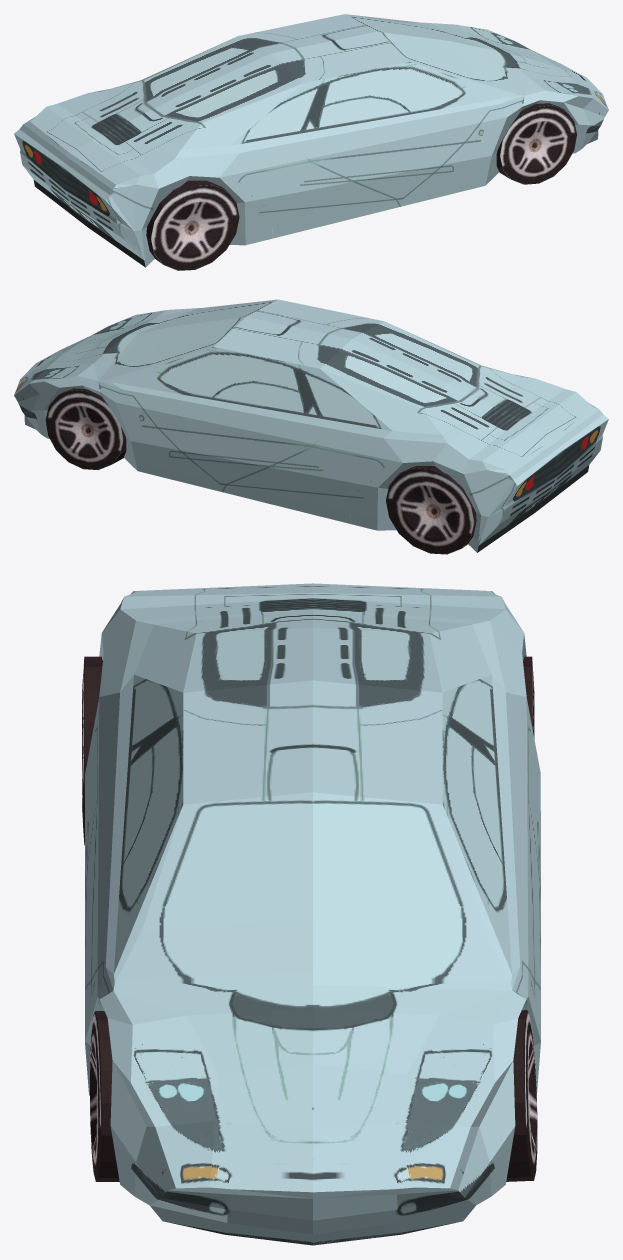
File: f1-blue.glb
3 views of the same model, one above another, from view 1: azimuth 30°, elevation 25°; view 2: azimuth 150°, elevation 25°; view 3: azimuth 270°, elevation 25° (orthographic). The views are drawn at different scales.
Parts seen in each view (by area): view 1: Cube, Cube.003, Cube.001; view 2: Cube, Cube.002, Cube.004; view 3: Cube, Cube.004, Cube.001, Cube.003.
Part boxes in pixels (left/top/right/bottom): Cube: left=14, top=14, right=608, bottom=267; Cube.003: left=146, top=180, right=239, bottom=270; Cube.001: left=496, top=103, right=576, bottom=184; Cube: left=14, top=299, right=608, bottom=552; Cube.002: left=386, top=466, right=476, bottom=554; Cube.004: left=45, top=388, right=126, bottom=469; Cube: left=85, top=583, right=540, bottom=1245; Cube.004: left=506, top=1010, right=537, bottom=1181; Cube.001: left=89, top=1011, right=119, bottom=1181; Cube.003: left=82, top=656, right=102, bottom=845.
Size of the model in its own units: 12.71 by 3.28 by 4.77.
Materials: 2 (2 with a texture image).
